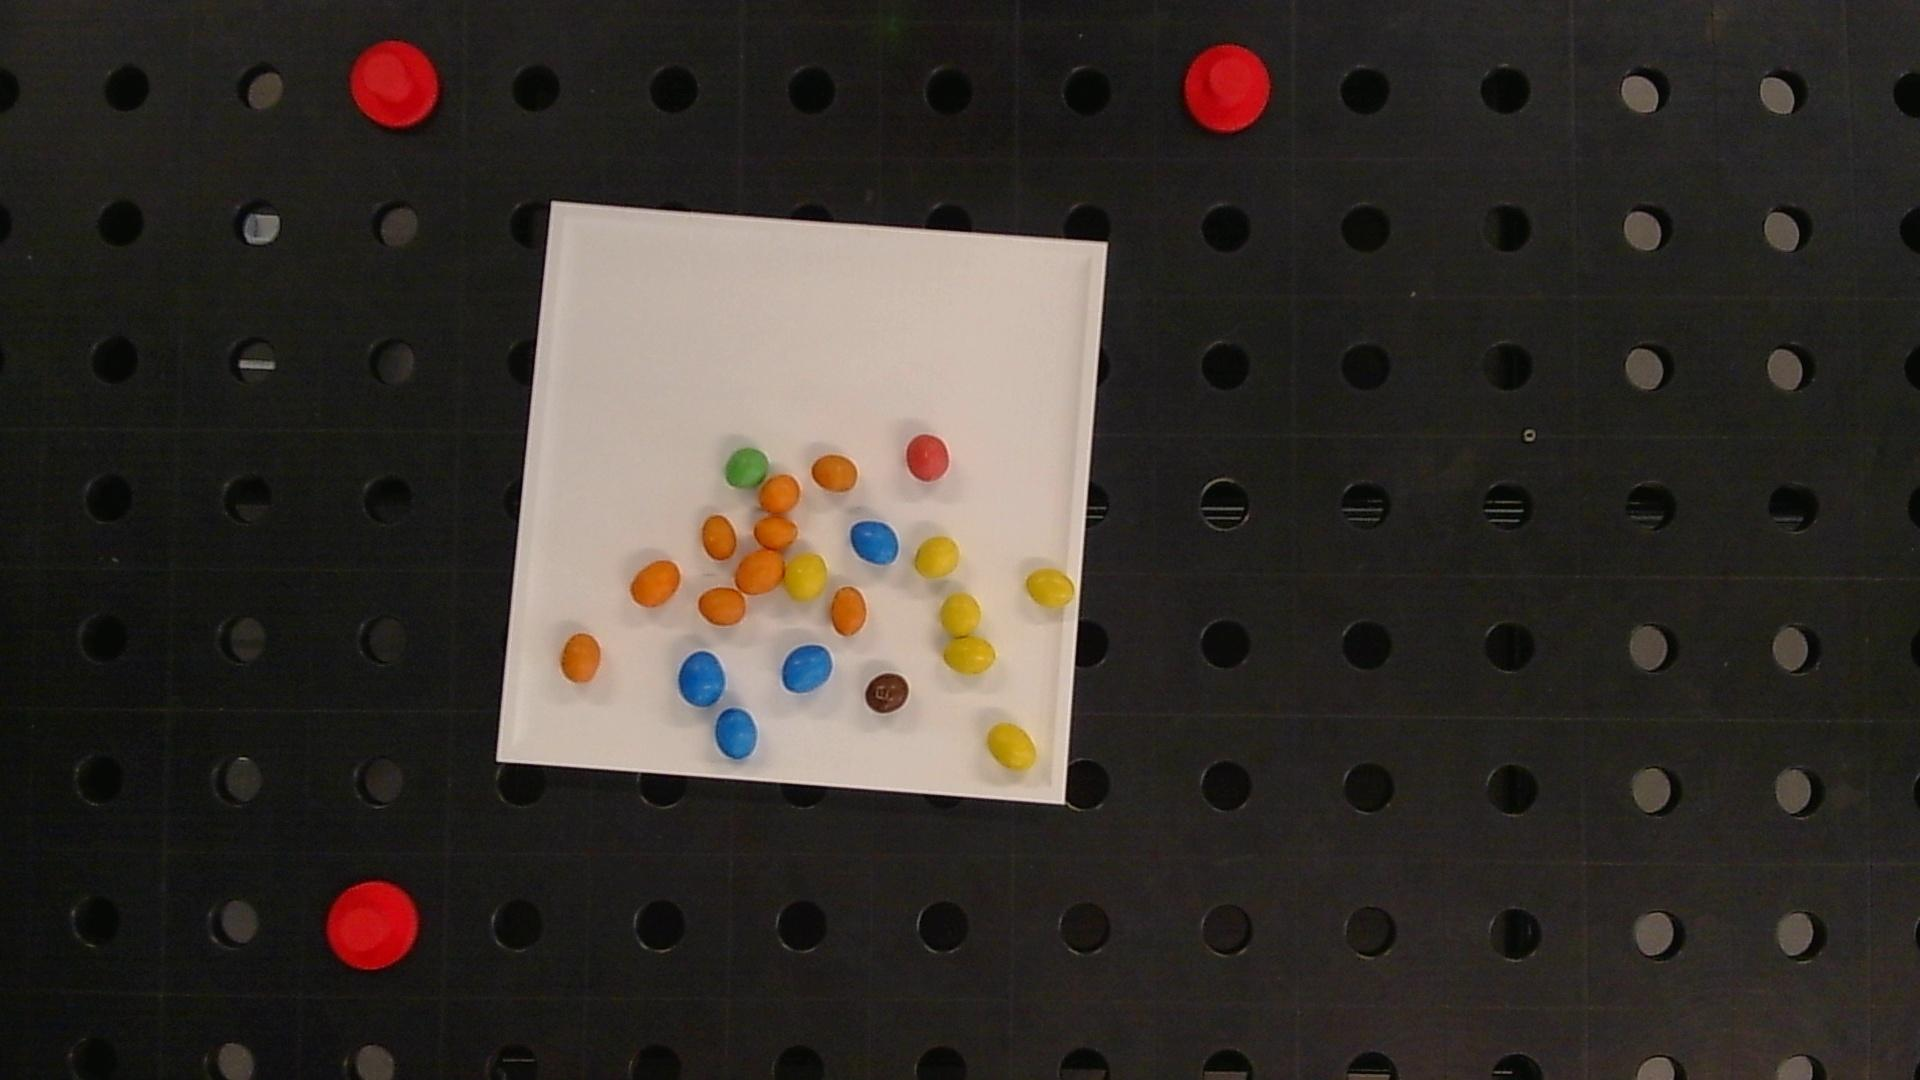blue: (679, 651, 725, 707), (782, 645, 832, 692), (851, 520, 899, 566), (715, 708, 758, 760)
brown: (865, 673, 910, 713)
green: (725, 448, 767, 487)
orange: (630, 559, 680, 607), (735, 550, 783, 593), (560, 632, 601, 683), (811, 454, 858, 492), (698, 587, 745, 625), (831, 587, 866, 636), (702, 514, 737, 559), (760, 475, 799, 513), (754, 517, 798, 550)
red: (906, 434, 949, 481)
yellow: (986, 723, 1038, 770), (1025, 568, 1075, 608), (785, 554, 827, 600), (915, 537, 960, 579), (944, 638, 997, 674), (940, 595, 981, 637)
